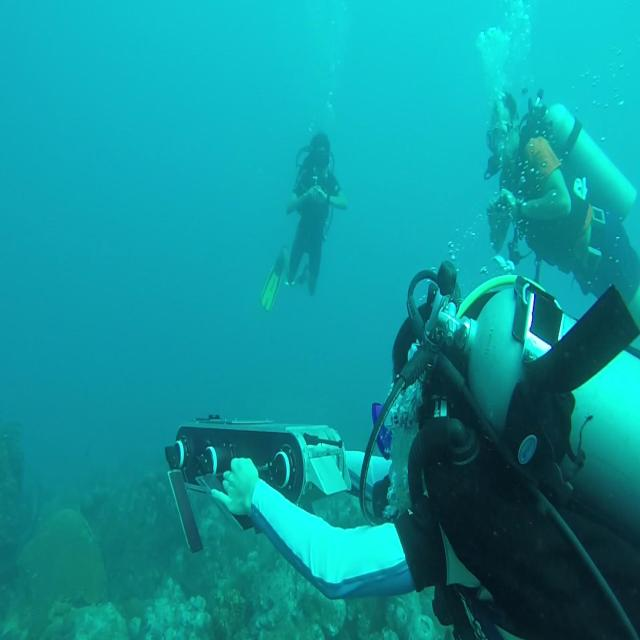human: (207, 270, 638, 638), (483, 86, 639, 326), (280, 131, 347, 296)
